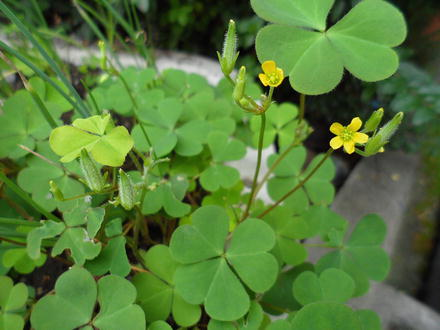oxalis: (25, 79, 313, 330), (241, 6, 411, 95)
